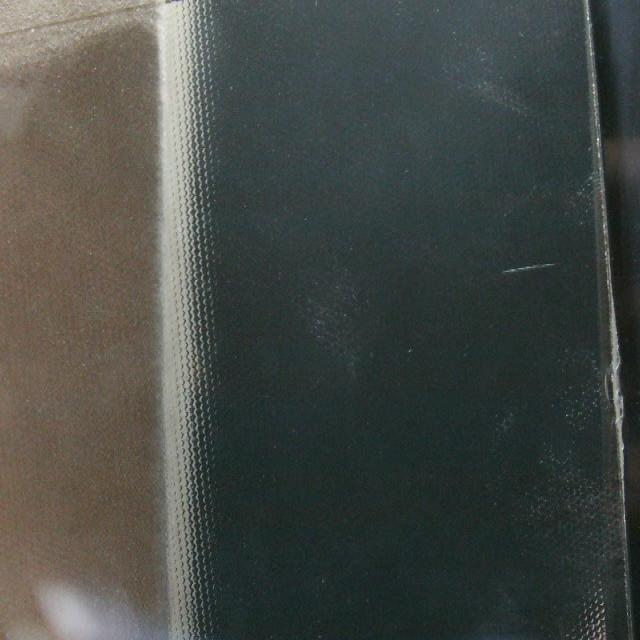edge_chip: (598, 272, 632, 495)
scratch: (495, 254, 554, 284)
